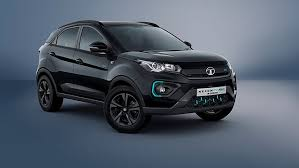Tata Nexon: (31, 13, 240, 135)
